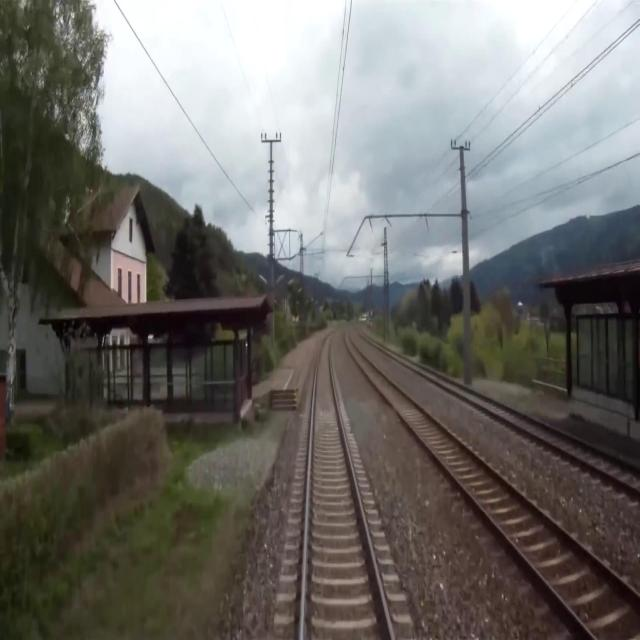rail-track: (346, 328, 640, 639), (404, 360, 640, 488), (304, 332, 389, 639)
